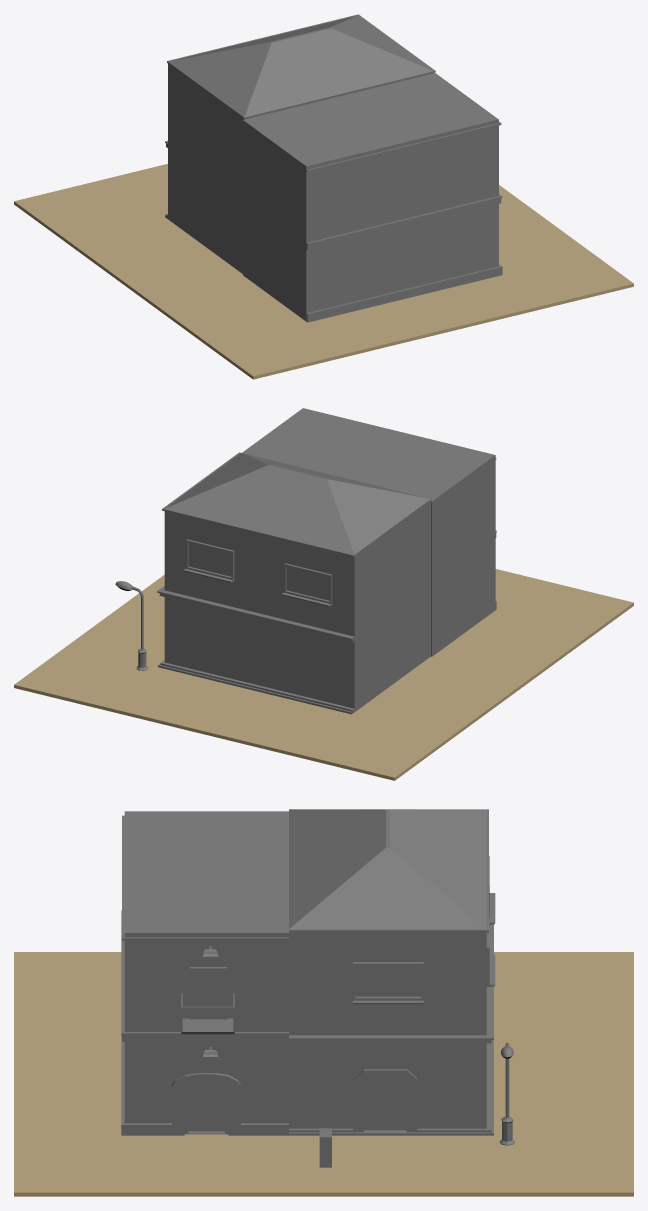
Rendered from fond_du_decor_maison.fbx.
The picture shows the model from 3 angles, top to bottom: view 1: azimuth 30°, elevation 25°; view 2: azimuth 150°, elevation 25°; view 3: azimuth 270°, elevation 25°; orthographic projection. The views are drawn at different scales.
Parts seen in each view (by area): view 1: batiment 1, Box007, Box006; view 2: Box006, Box007, batiment 1, Cylinder001; view 3: Box007, Box006, batiment 1, Cylinder001.
Boxes of the visible parts, x1,y1,x2,y2 form: batiment 1: [243, 73, 502, 322]; Box007: [14, 164, 633, 379]; Box006: [165, 14, 435, 273]; Box006: [157, 452, 430, 714]; Box007: [14, 569, 633, 780]; batiment 1: [242, 408, 496, 656]; Cylinder001: [115, 581, 148, 670]; Box007: [14, 952, 633, 1196]; Box006: [289, 809, 495, 1135]; batiment 1: [121, 811, 288, 1135]; Cylinder001: [499, 1042, 514, 1145].
Size of the model in its own units: 1091 by 526 by 1187.
